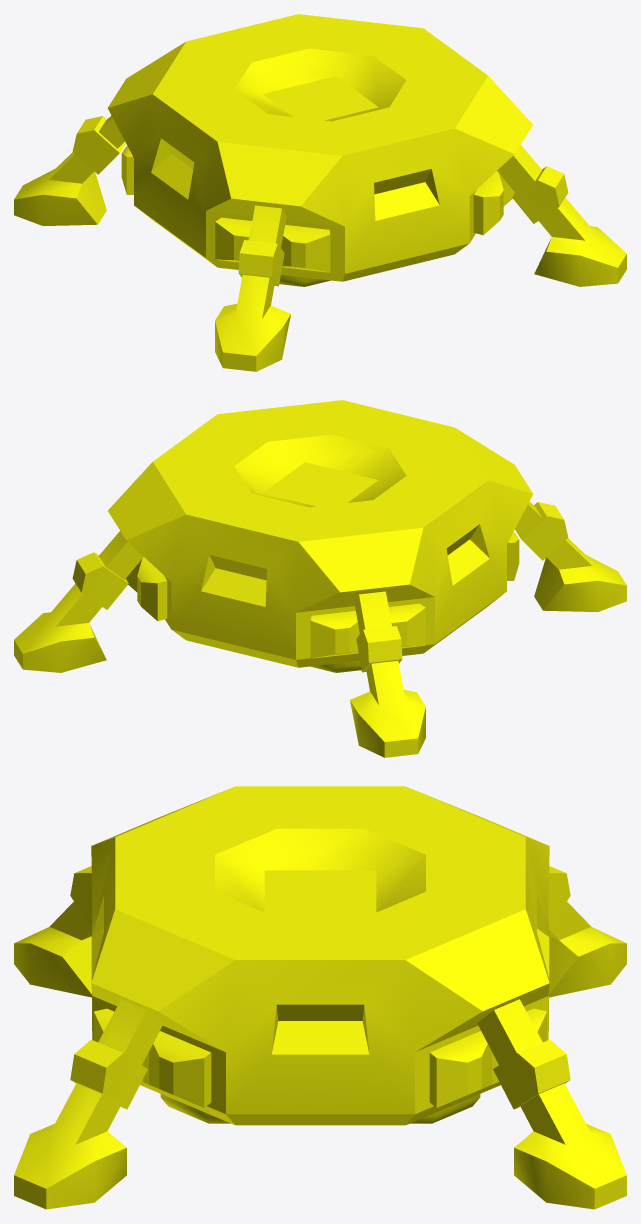
File: kaykit-lander-base.glb
3 renders of one model, top to bottom at view 1: azimuth 30°, elevation 25°; view 2: azimuth 150°, elevation 25°; view 3: azimuth 270°, elevation 25°, orthographic. The views are drawn at different scales.
Visible parts, largest first — view 1: lander_base; view 2: lander_base; view 3: lander_base.
Boxes of the visible parts, x1,y1,x2,y2 form: lander_base: (14, 14, 626, 371); lander_base: (14, 400, 626, 757); lander_base: (14, 786, 626, 1209).
Size of the model in its own units: 1.34 by 0.4999 by 1.34.
